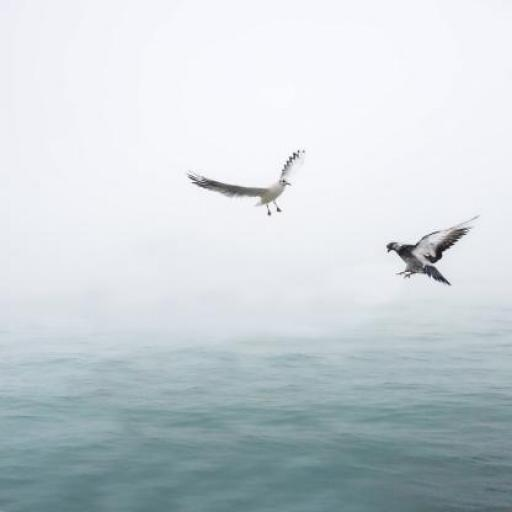bird: (186, 149, 306, 217), (386, 216, 480, 286)
